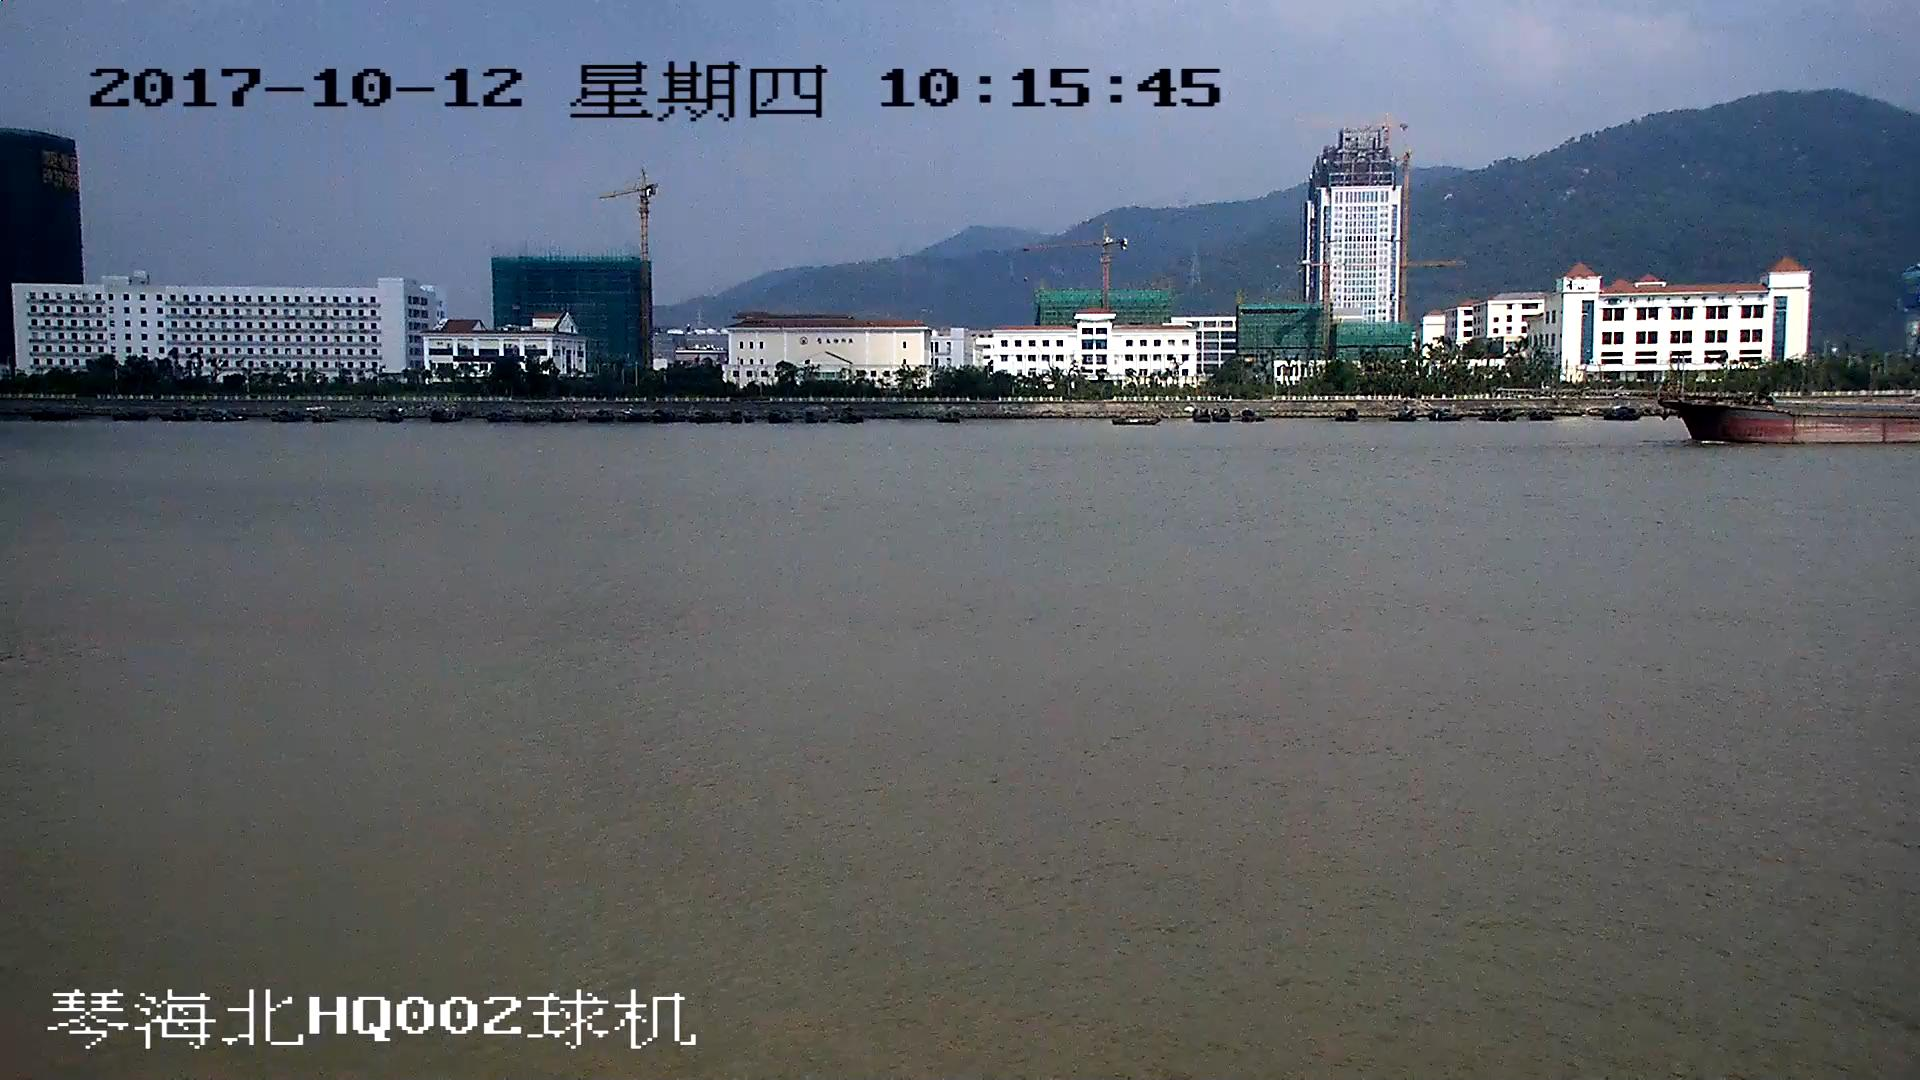bulk cargo carrier: (1660, 388, 1920, 441)
